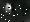person: (6, 4, 13, 14)
